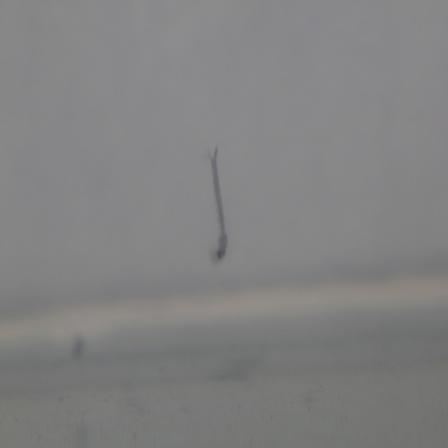Jentik-Nyamuk: (204, 143, 233, 263)
